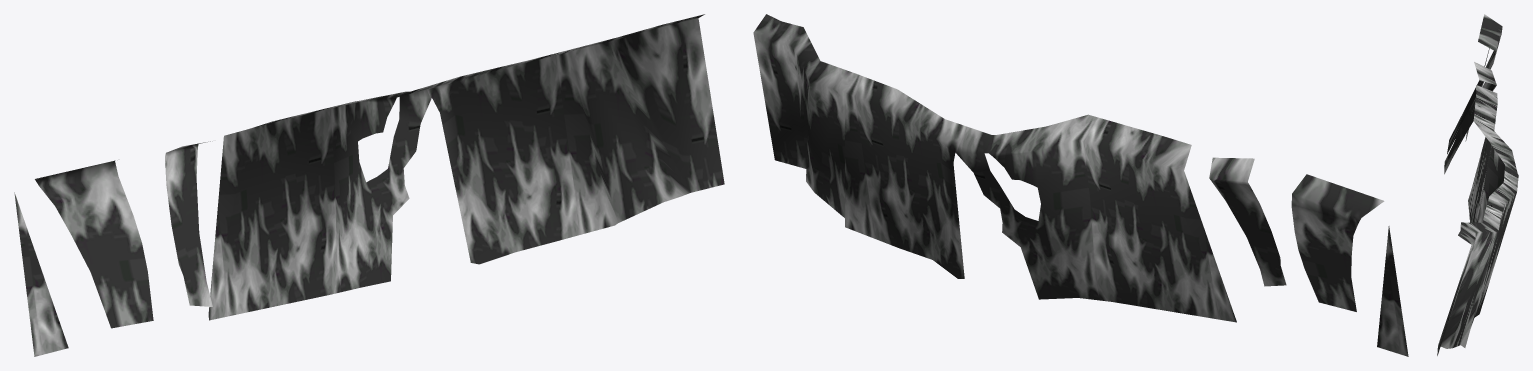
Rendered from Chapter2Model1EffectFalls05.FBX.
3 renders of one model, left to right at view 1: azimuth 30°, elevation 25°; view 2: azimuth 150°, elevation 25°; view 3: azimuth 270°, elevation 25°, orthographic. The views are drawn at different scales.
Visible parts, largest first — view 1: Chapter2Model1EffectFalls05; view 2: Chapter2Model1EffectFalls05; view 3: Chapter2Model1EffectFalls05.
Part boxes in pixels (left/top/right/bottom): Chapter2Model1EffectFalls05: left=14, top=14, right=724, bottom=356; Chapter2Model1EffectFalls05: left=753, top=14, right=1408, bottom=356; Chapter2Model1EffectFalls05: left=1437, top=14, right=1518, bottom=355.
Size of the model in its own units: 677 by 96.21 by 202.
